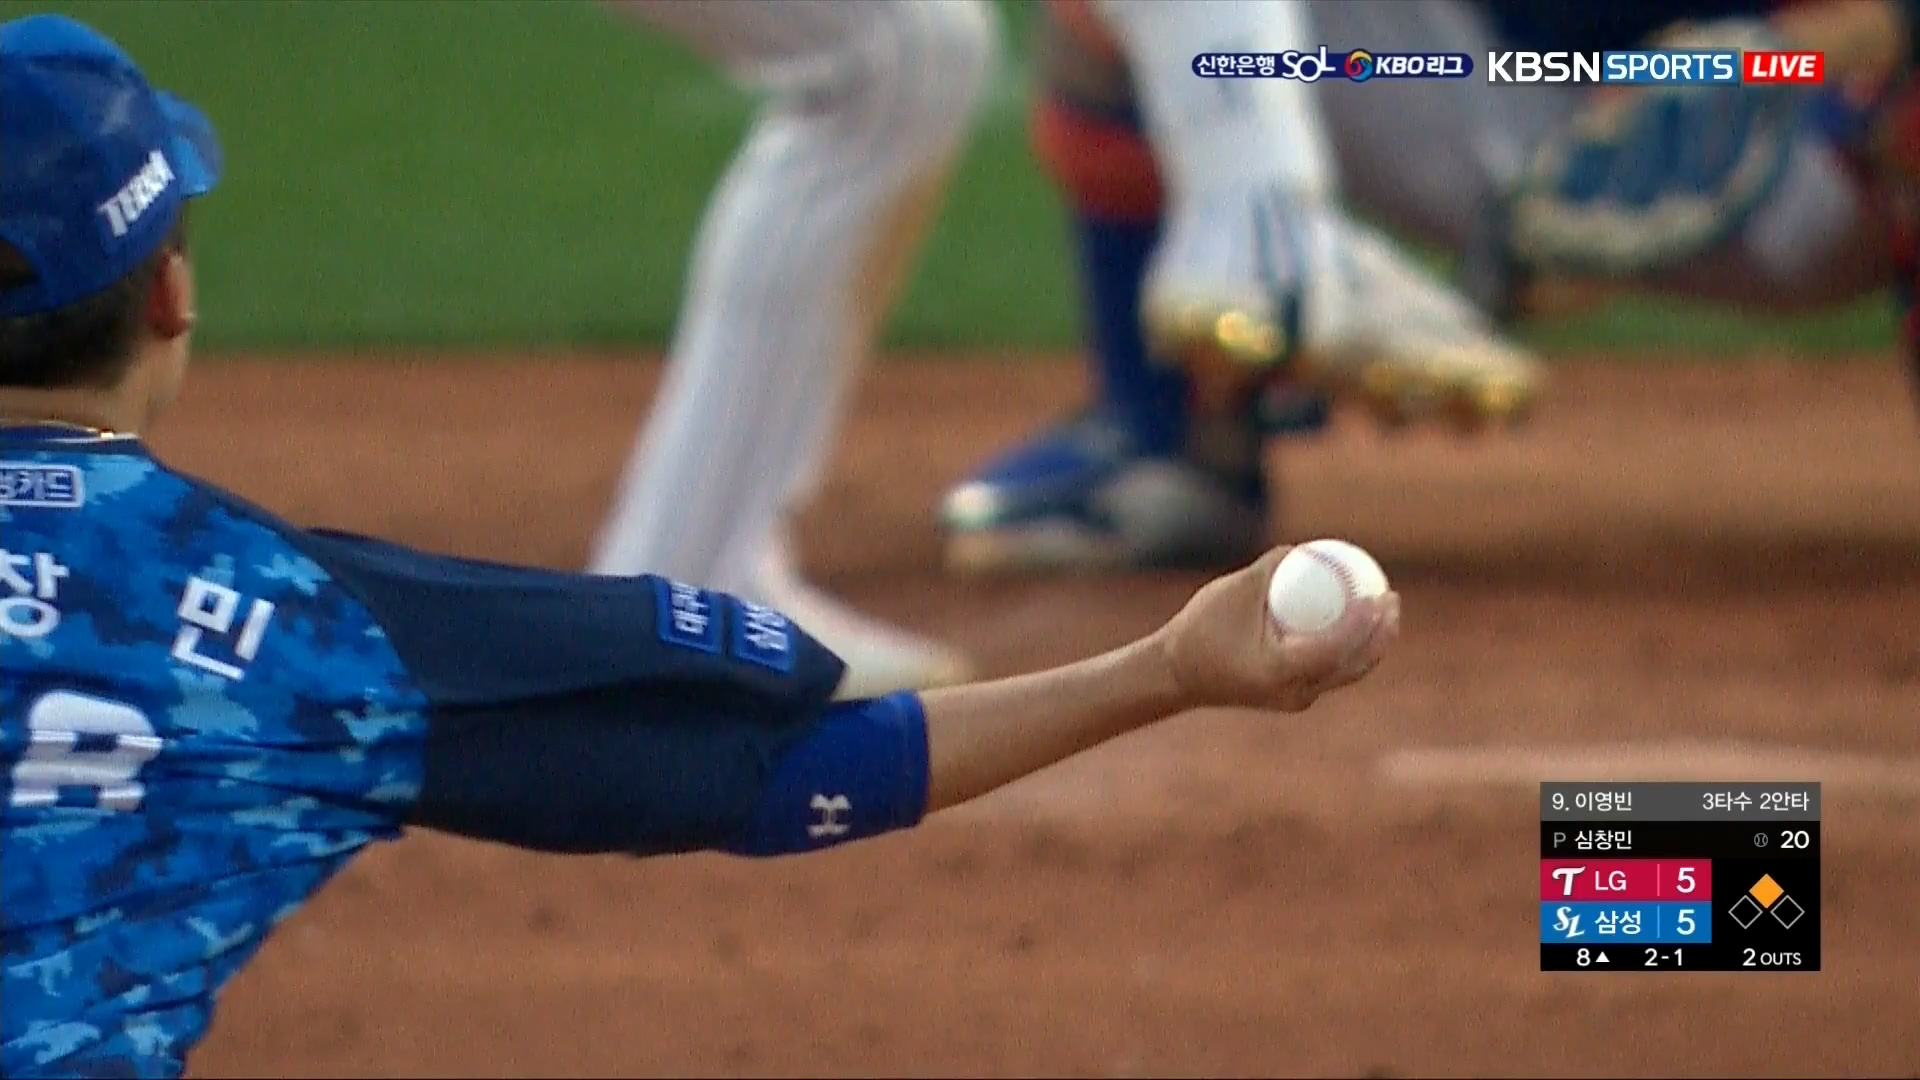zoomin_hand: (758, 524, 1414, 876)
